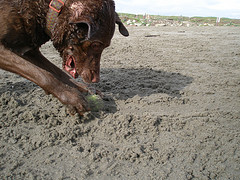tennis ball: (87, 91, 104, 101)
